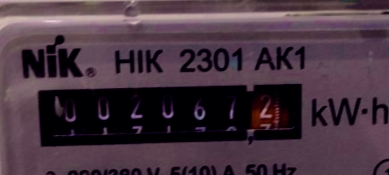0: (60, 95, 79, 125), (94, 92, 112, 122), (157, 91, 176, 119)
2: (256, 91, 275, 120), (127, 91, 145, 121)
6: (190, 93, 209, 122)
7: (223, 92, 240, 122)
screen: (24, 69, 318, 160)
